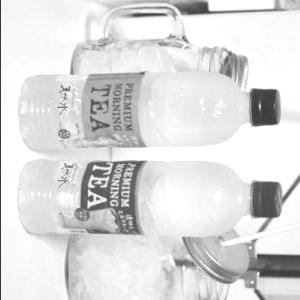bottle: (9, 69, 284, 157), (10, 155, 286, 241)
